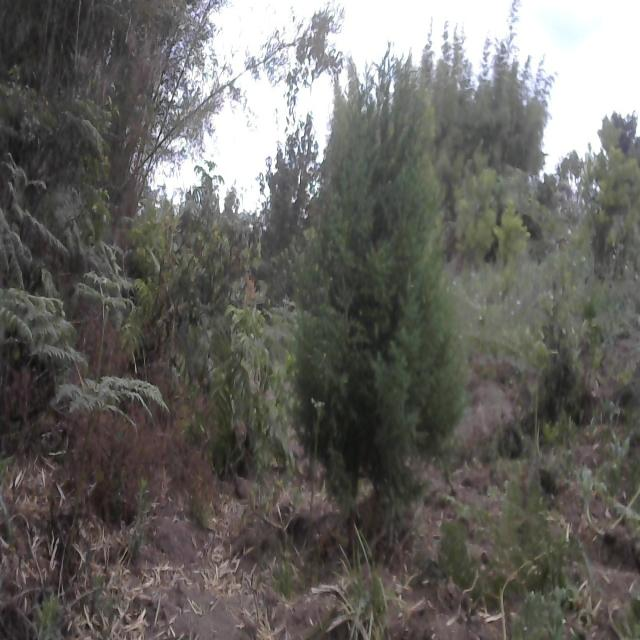Juniperus procesera: (282, 55, 490, 525)
